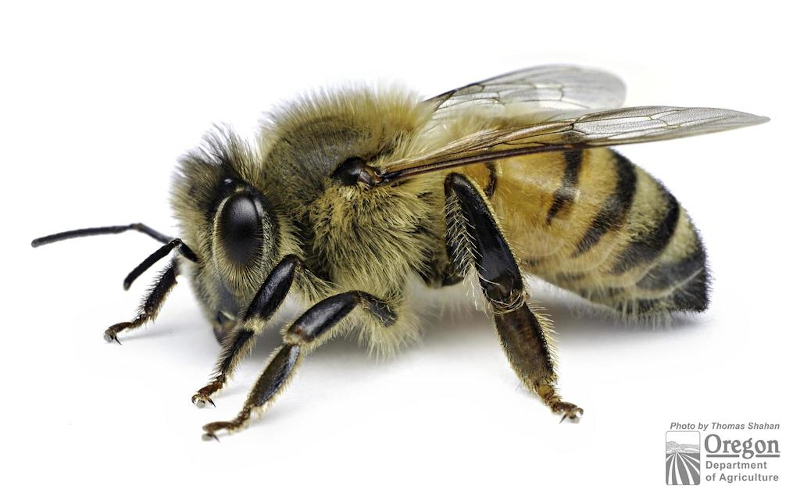abeja: (6, 33, 768, 429)
